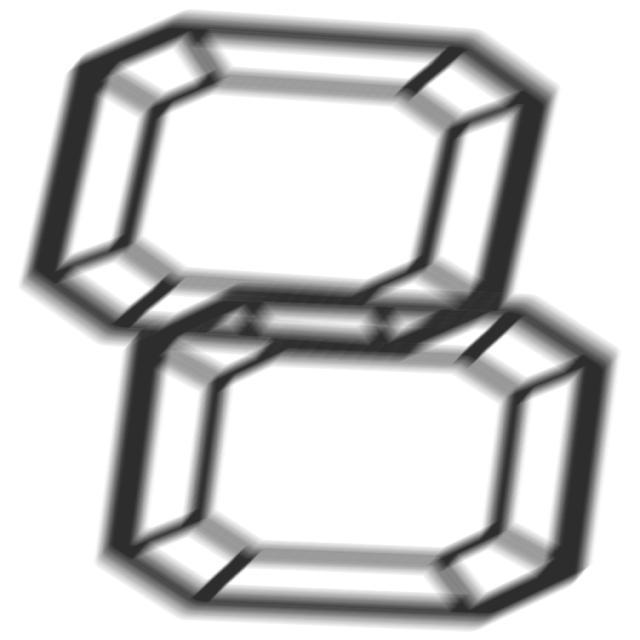emerald: (16, 4, 569, 378), (89, 288, 626, 633)
